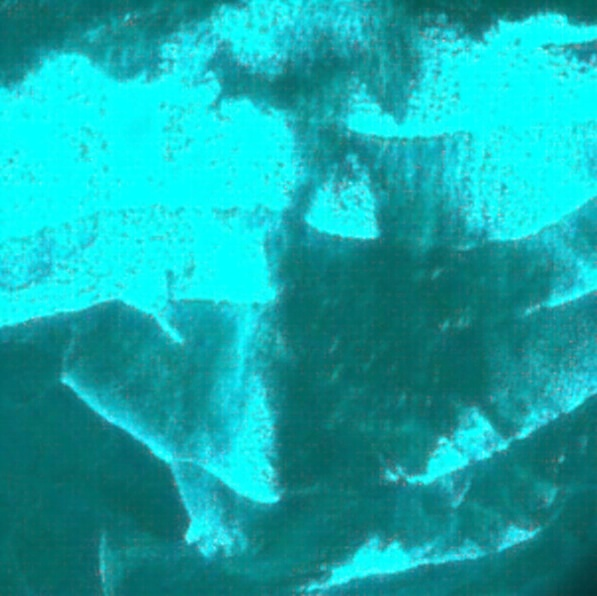rip_current: (203, 133, 502, 547)
